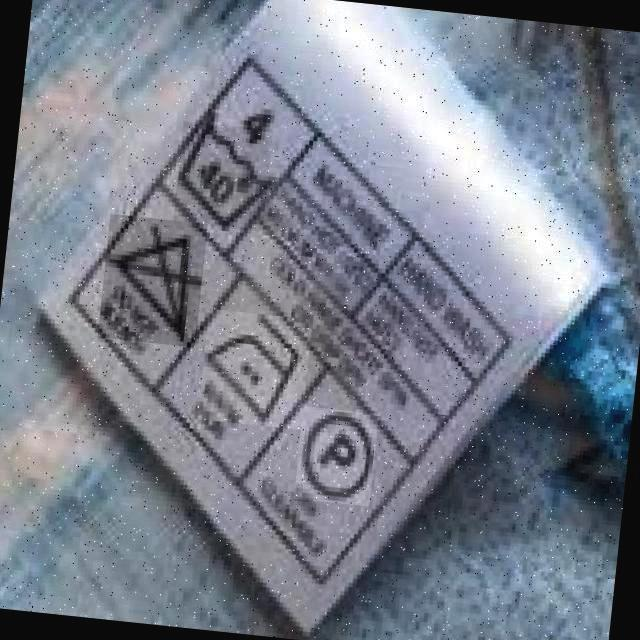40C: (176, 133, 278, 225)
DN_bleach: (111, 225, 205, 333)
dry_clean_any_solvent_except_trichloroethylene: (300, 415, 375, 504)
iron_medium: (207, 317, 304, 415)
